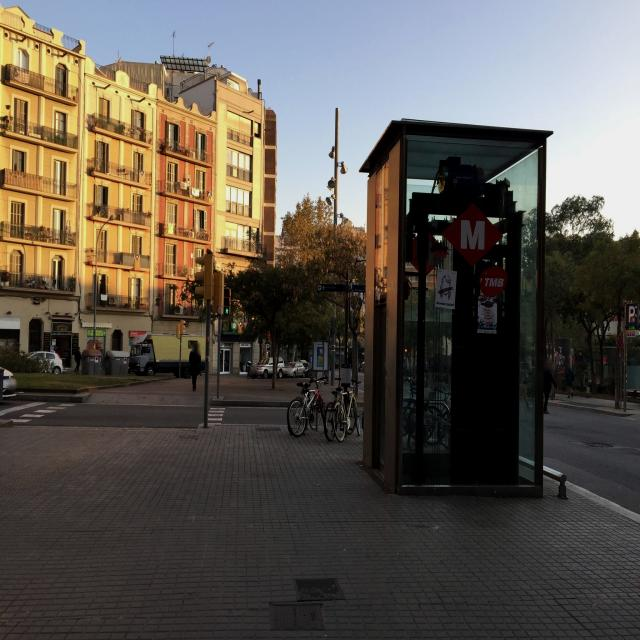bike: (286, 373, 334, 439), (327, 379, 362, 438), (324, 377, 347, 443)
car: (0, 351, 17, 406), (25, 350, 63, 374), (248, 356, 286, 379)
